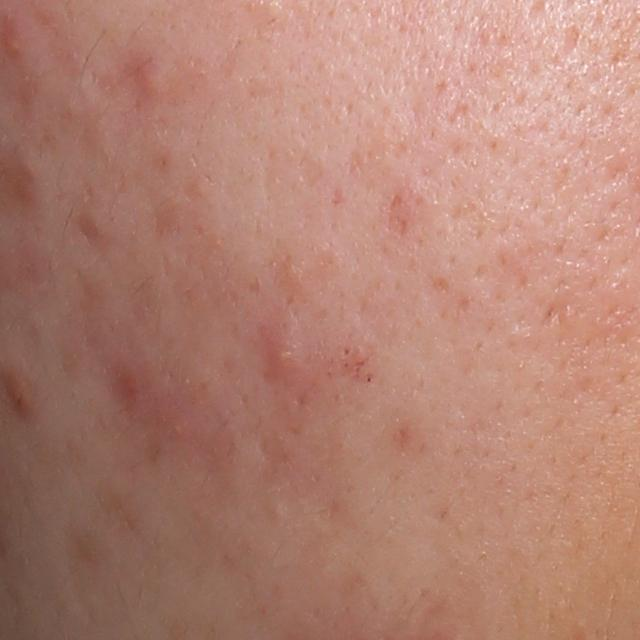atrophic_scar: (554, 20, 582, 62)
papule: (267, 333, 297, 382), (5, 368, 35, 415), (136, 57, 166, 103), (1, 20, 24, 61)
